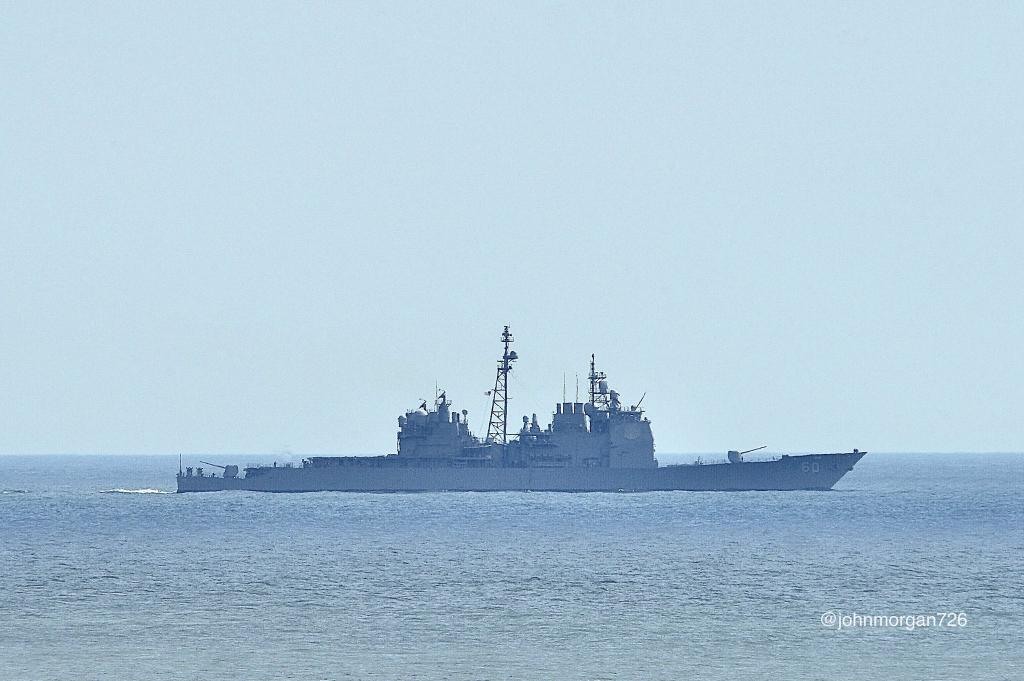Warship: (167, 318, 869, 496)
